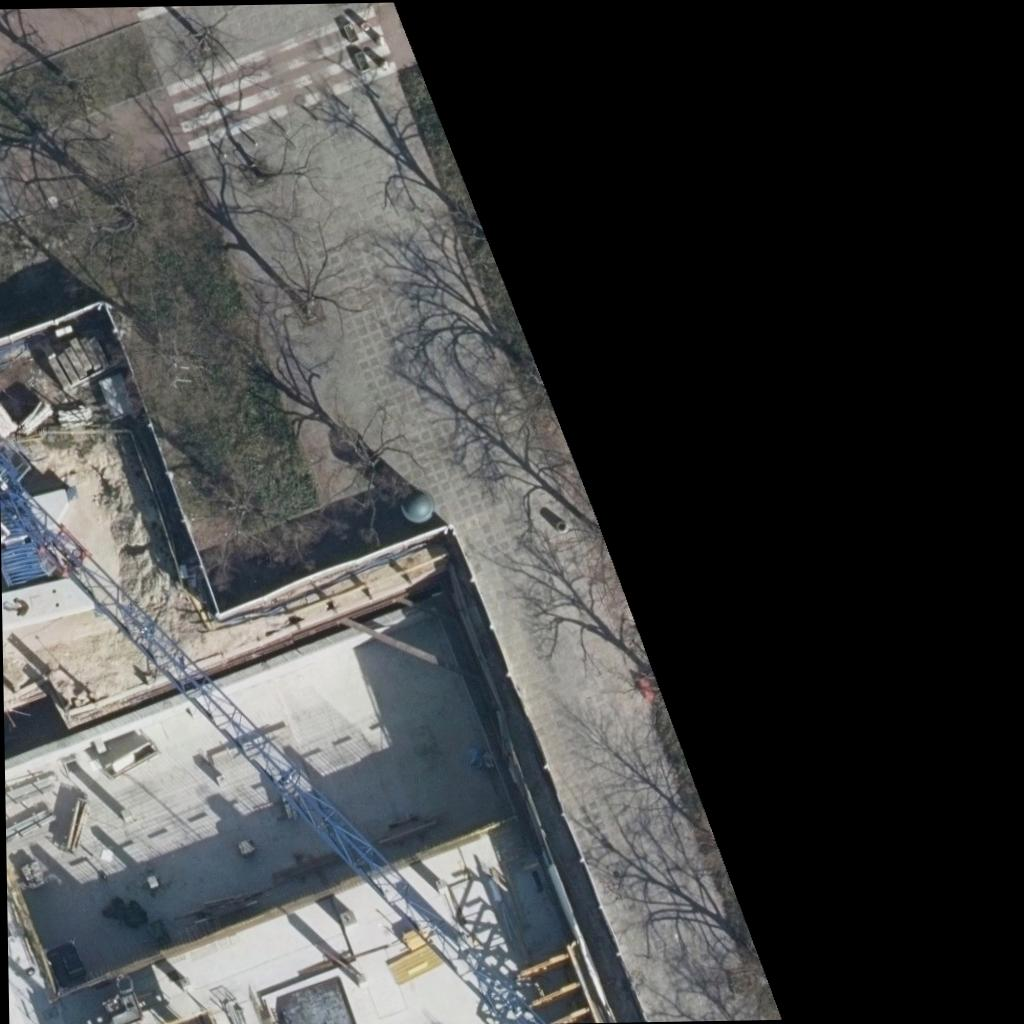zuraw_wiezowy: (0, 432, 542, 1024)
